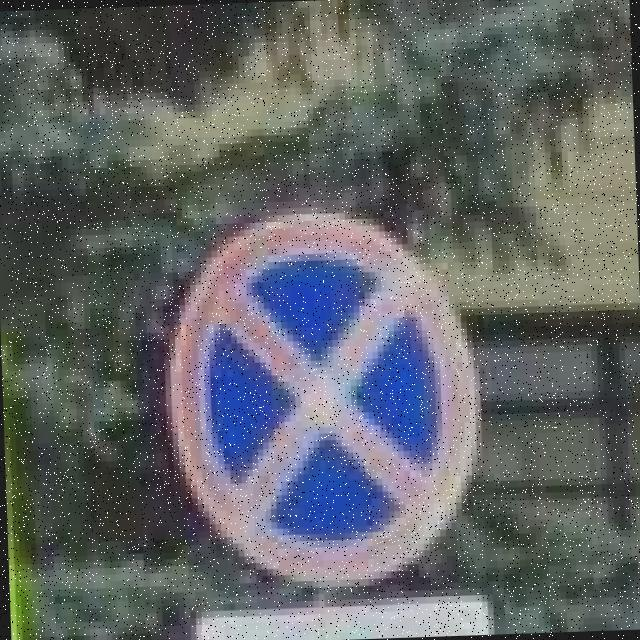Zakaz zatrzymywania sie: (159, 208, 486, 592)
